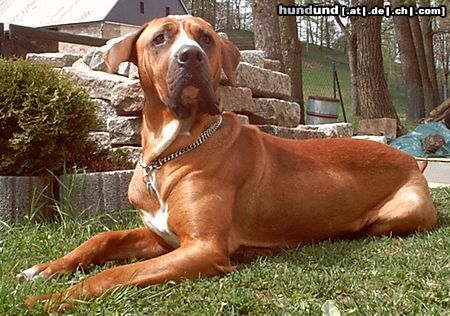tosa_inu: (14, 13, 437, 316)
